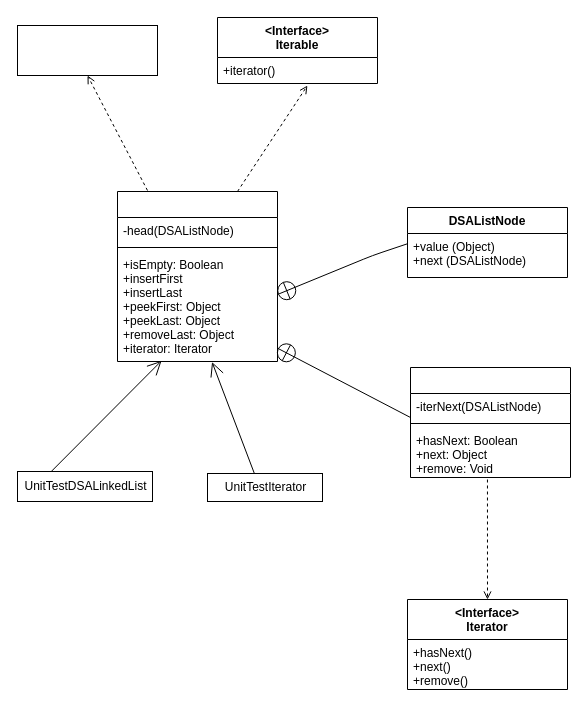
The diagram is 588 pixels wide and 710 high, and some of its shapes have lost their labels. The shapes that lost their labels are listed below. From the top down, each one's box as (x1, y1, x2, y2) in pixels, then its label:
(16, 24, 158, 76): <Interface> Serializable
(116, 190, 278, 362): DSALinkedList
(410, 366, 570, 478): DSALinkedListIterator
